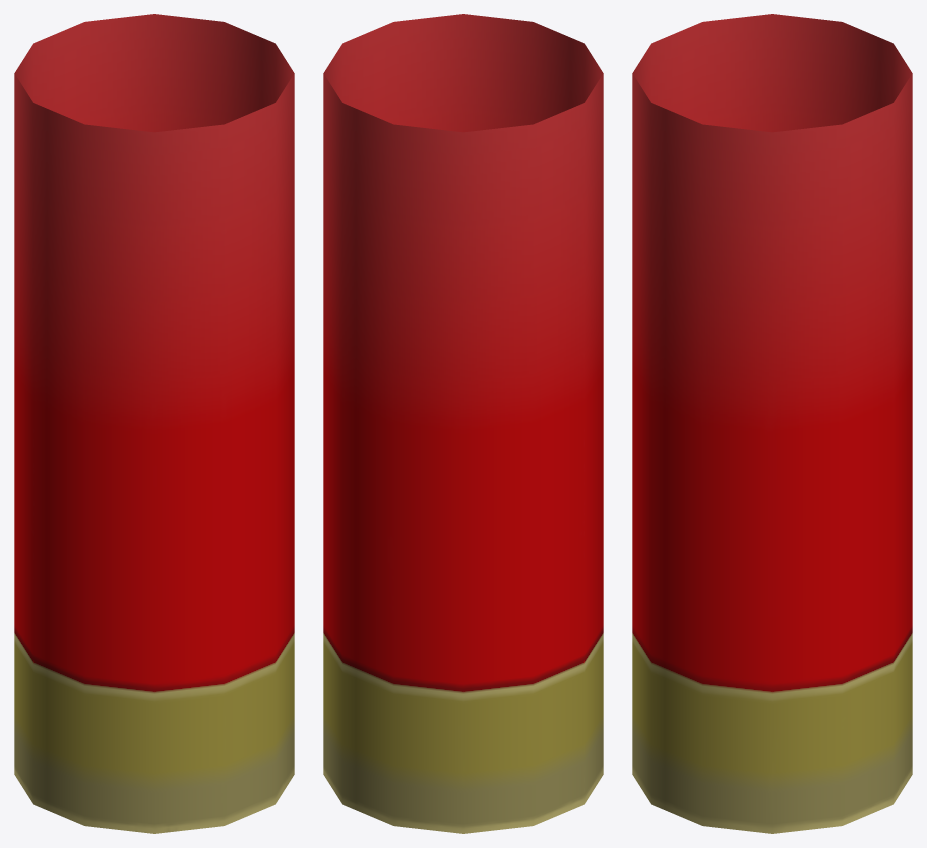
The model's file is SHellFired.fbx.
The picture shows the model from 3 angles, left to right: view 1: azimuth 30°, elevation 25°; view 2: azimuth 150°, elevation 25°; view 3: azimuth 270°, elevation 25°; orthographic projection.
Parts seen in each view (by area): view 1: SHellFired; view 2: SHellFired; view 3: SHellFired.
Boxes of the visible parts, box(x1,y1,x2,y2) form: SHellFired: box(14, 14, 294, 833); SHellFired: box(323, 14, 603, 833); SHellFired: box(632, 14, 912, 833).
Bounding box in the file's own units: 0.0254 × 0.0703 × 0.0254.
